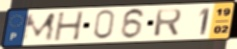0: (92, 9, 117, 41)
1: (198, 7, 210, 36)
6: (120, 7, 149, 41)
H: (53, 10, 86, 42)
M: (20, 11, 58, 43)
R: (152, 8, 184, 38)
